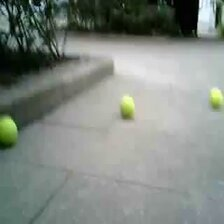tennis: (1, 112, 20, 148), (117, 94, 136, 117), (208, 86, 224, 107)
